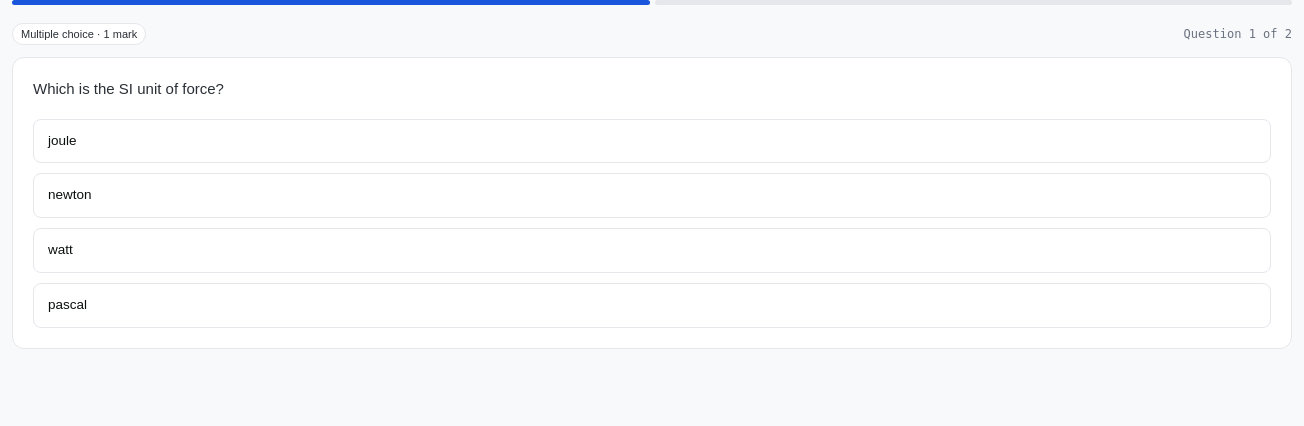
Scenario: already answered on another device (409) › shows the stored mark and lets the student move on, with no error
The width and height of the screenshot is (1304, 426).
Click the button "newton".
click(70, 195)  # box [33,173,1271,218]
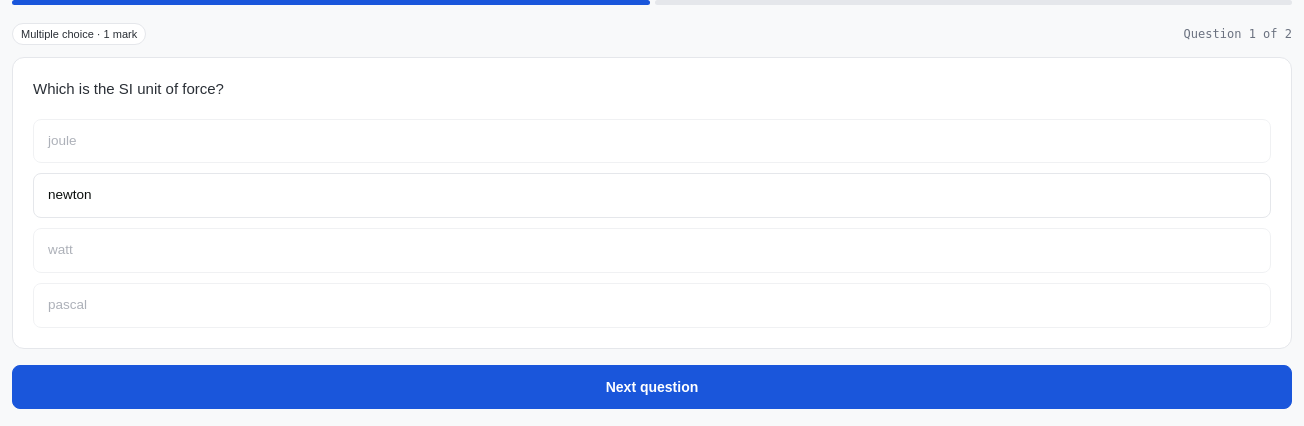
Expected: the button "Next question" is shown
Click the button "Next question".
click(652, 387)  # box [12,365,1292,409]
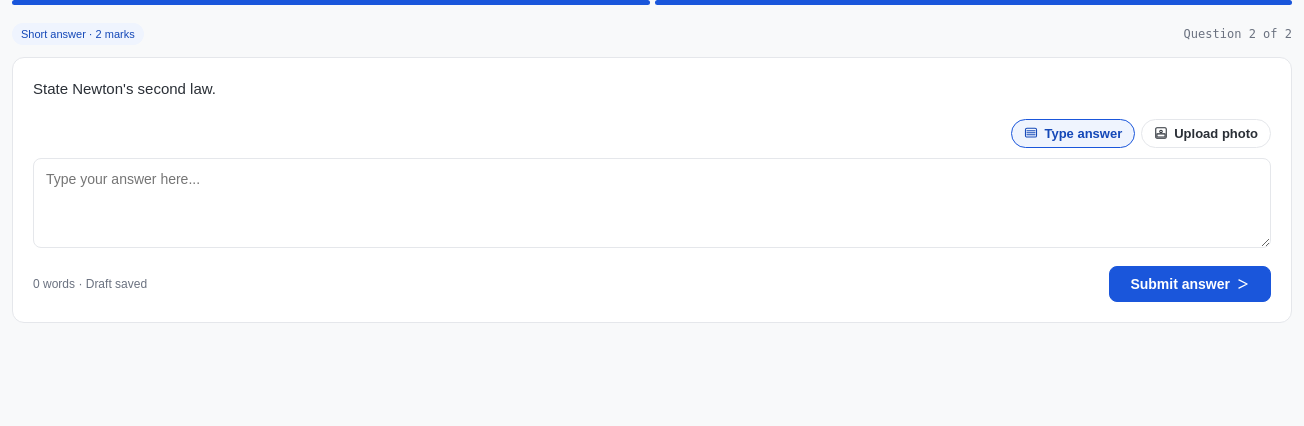
Expected: the text "Question 2 of 2" is shown, [1184,27,1292,41]
